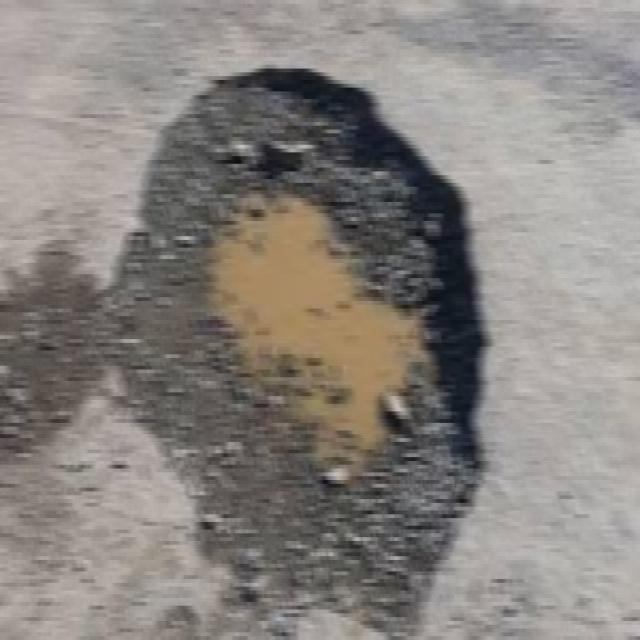Pothole: (89, 57, 496, 639)
